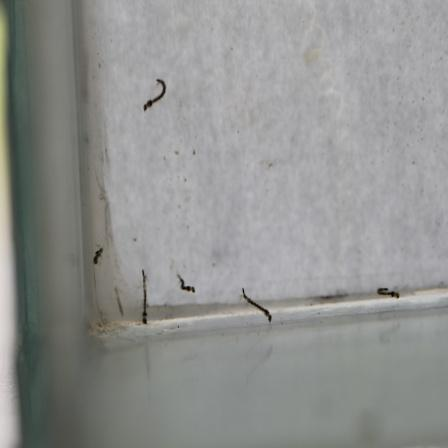Jentik-Nyamuk: (235, 283, 278, 326), (141, 74, 168, 116), (135, 266, 152, 326), (175, 270, 198, 299), (373, 280, 403, 302), (88, 242, 106, 268)
